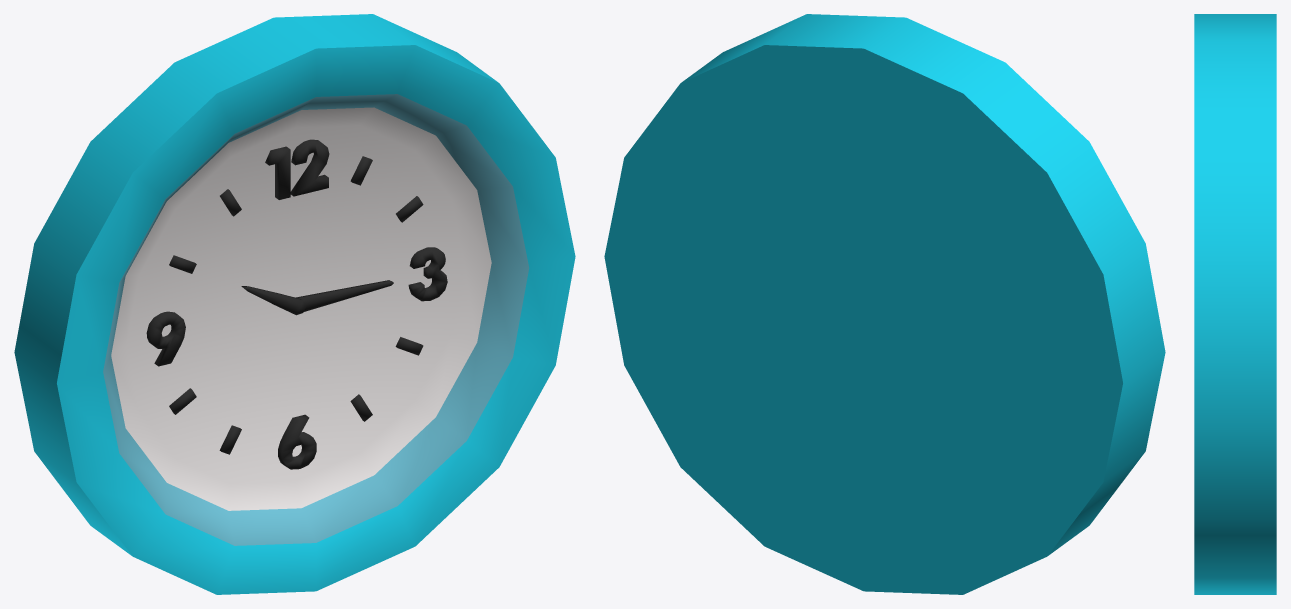
Rendered from mesh_clock 1.fbx.
3 renders of one model, left to right at view 1: azimuth 30°, elevation 25°; view 2: azimuth 150°, elevation 25°; view 3: azimuth 270°, elevation 25°, orthographic. The views are drawn at different scales.
Parts seen in each view (by area): view 1: pCube169, pCube169.001, pCube169.002; view 2: pCube169; view 3: pCube169.
Boxes of the visible parts, x1,y1,x2,y2 form: pCube169: (14, 14, 575, 594); pCube169.001: (296, 280, 393, 311); pCube169.002: (241, 286, 306, 315); pCube169: (604, 14, 1165, 594); pCube169: (1194, 14, 1276, 594).
Size of the model in its own units: 7.93 by 7.93 by 1.12.
